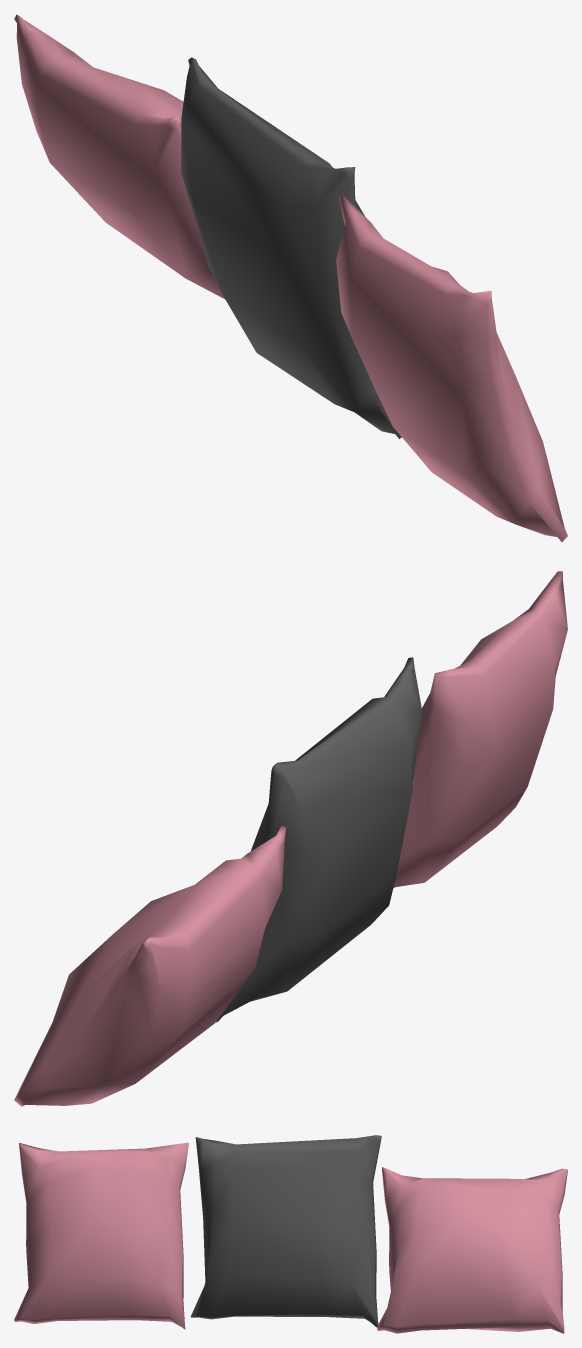
Rendered from Bedroom3_pillows.fbx.
3 views of the same model, one above another, from view 1: azimuth 30°, elevation 25°; view 2: azimuth 150°, elevation 25°; view 3: azimuth 270°, elevation 25° (orthographic). The views are drawn at different scales.
Parts seen in each view (by area): view 1: Bedroom3_pillows; view 2: Bedroom3_pillows; view 3: Bedroom3_pillows.
Boxes of the visible parts, <box> form: Bedroom3_pillows: <box>14,14,567,541</box>; Bedroom3_pillows: <box>14,571,567,1106</box>; Bedroom3_pillows: <box>14,1135,567,1333</box>.
Size of the model in its own units: 53.58 by 94.98 by 273.
